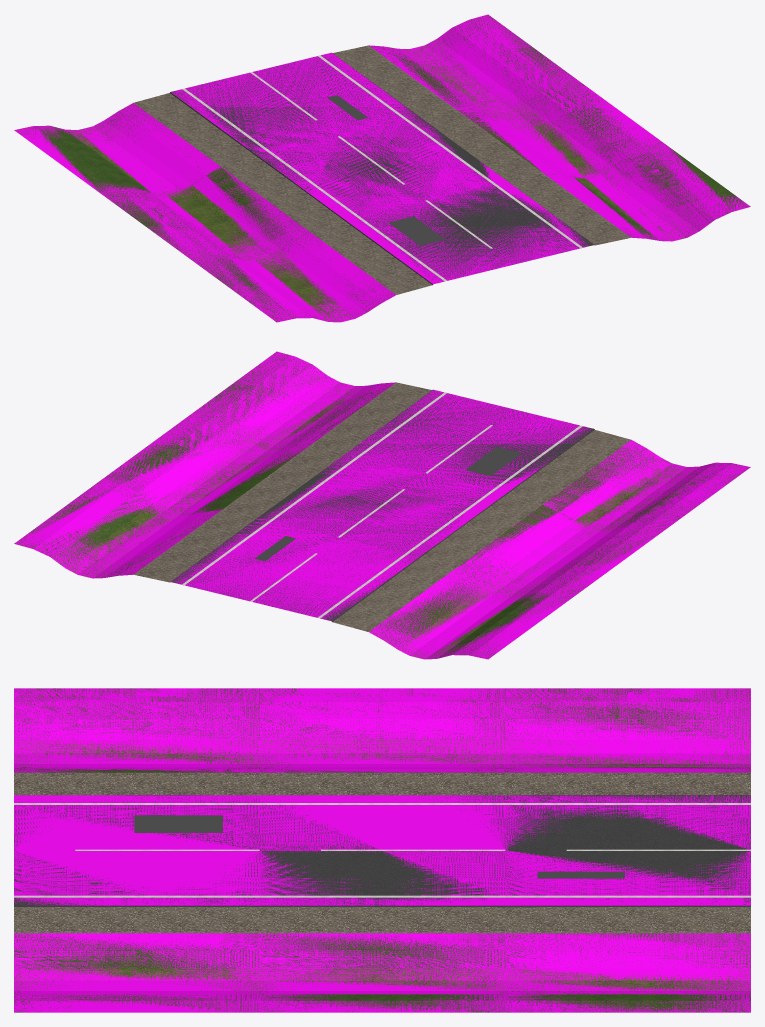
File: EN_Road_Country2_24m_Approach.fbx
3 views of the same model, one above another, from view 1: azimuth 30°, elevation 25°; view 2: azimuth 150°, elevation 25°; view 3: azimuth 270°, elevation 25° (orthographic). The views are drawn at different scales.
Visible parts, largest first — view 1: COL_DriveSurface, EN_Road_Country2_24m_Approach_Surface, EN_Road_Country2_24m_Approach_Markings, EN_Road_Country2_24m_Approach_Patches; view 2: COL_DriveSurface, EN_Road_Country2_24m_Approach_Surface, EN_Road_Country2_24m_Approach_Markings, EN_Road_Country2_24m_Approach_Patches; view 3: COL_DriveSurface, EN_Road_Country2_24m_Approach_Surface, EN_Road_Country2_24m_Approach_Markings, EN_Road_Country2_24m_Approach_Patches.
Part boxes in pixels (x1,y1,x2,y2): COL_DriveSurface: (14, 14, 750, 322); EN_Road_Country2_24m_Approach_Surface: (17, 15, 750, 322); EN_Road_Country2_24m_Approach_Markings: (182, 55, 582, 281); EN_Road_Country2_24m_Approach_Patches: (327, 95, 444, 245); COL_DriveSurface: (14, 351, 750, 659); EN_Road_Country2_24m_Approach_Surface: (14, 352, 748, 658); EN_Road_Country2_24m_Approach_Markings: (182, 392, 582, 618); EN_Road_Country2_24m_Approach_Patches: (255, 447, 521, 560); COL_DriveSurface: (14, 688, 750, 1012); EN_Road_Country2_24m_Approach_Surface: (14, 688, 750, 1012); EN_Road_Country2_24m_Approach_Markings: (14, 803, 750, 897); EN_Road_Country2_24m_Approach_Patches: (134, 815, 624, 878).
Bounding box in the file's own units: 25 × 0.786 × 24.
